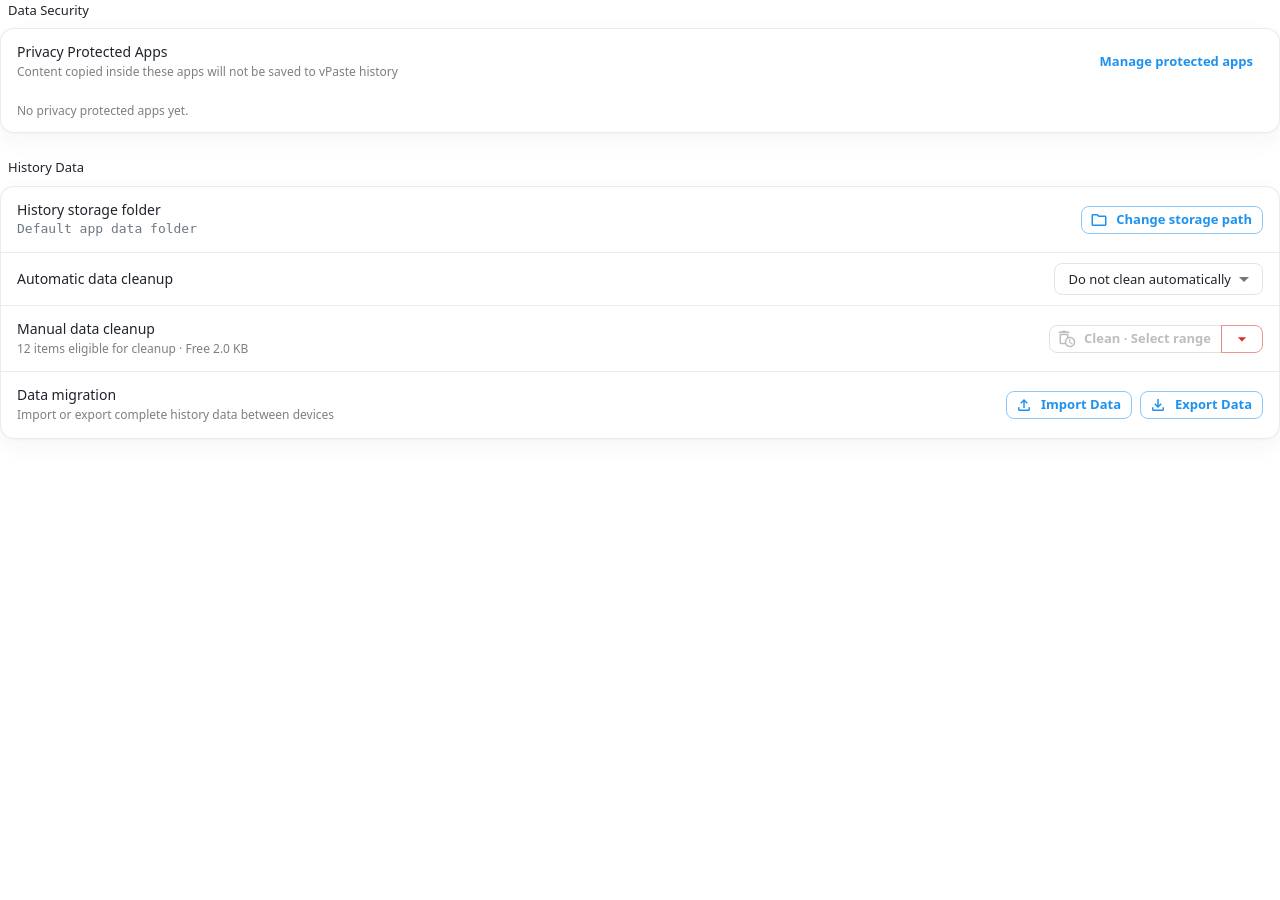
Test case: Data settings actions › shows cleanup scope, count, protection, and warning before deleting (English)
Click the button named "Select range": (1242, 339) 1221,325 -> 1263,353
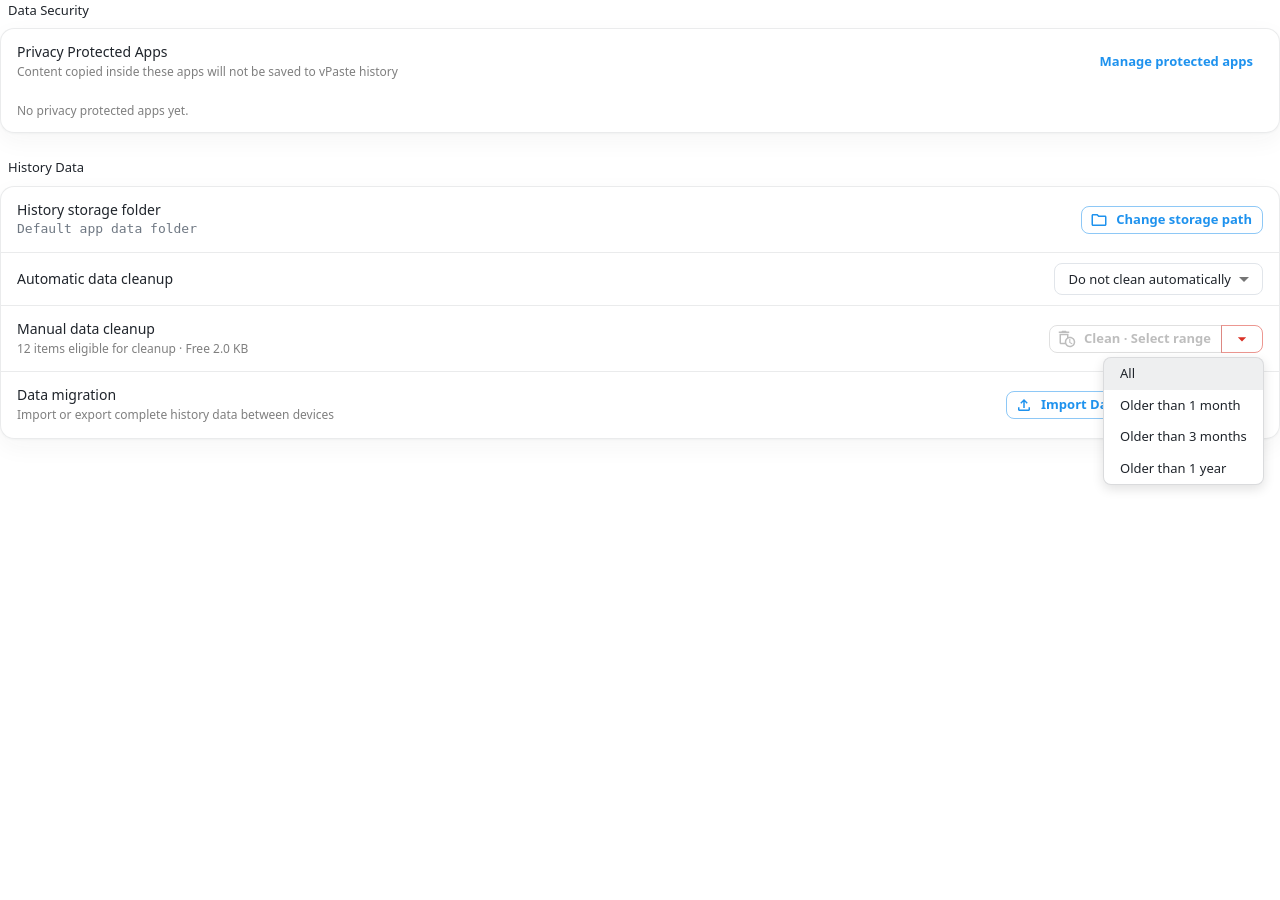
Click the menu item "All": (1183, 374) 1104,358 -> 1263,390
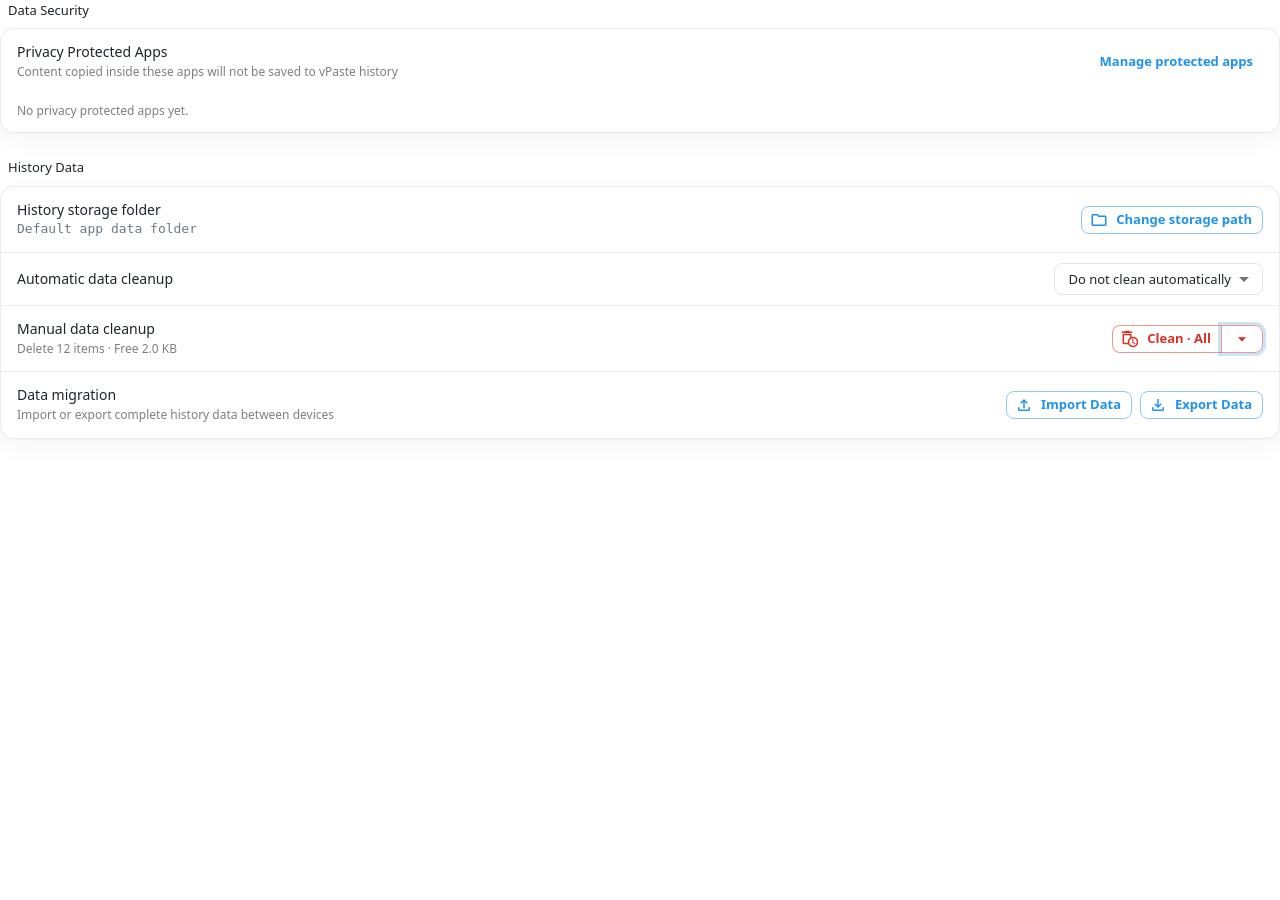
Click the button "Clean · All": (1167, 339) 1112,325 -> 1222,353
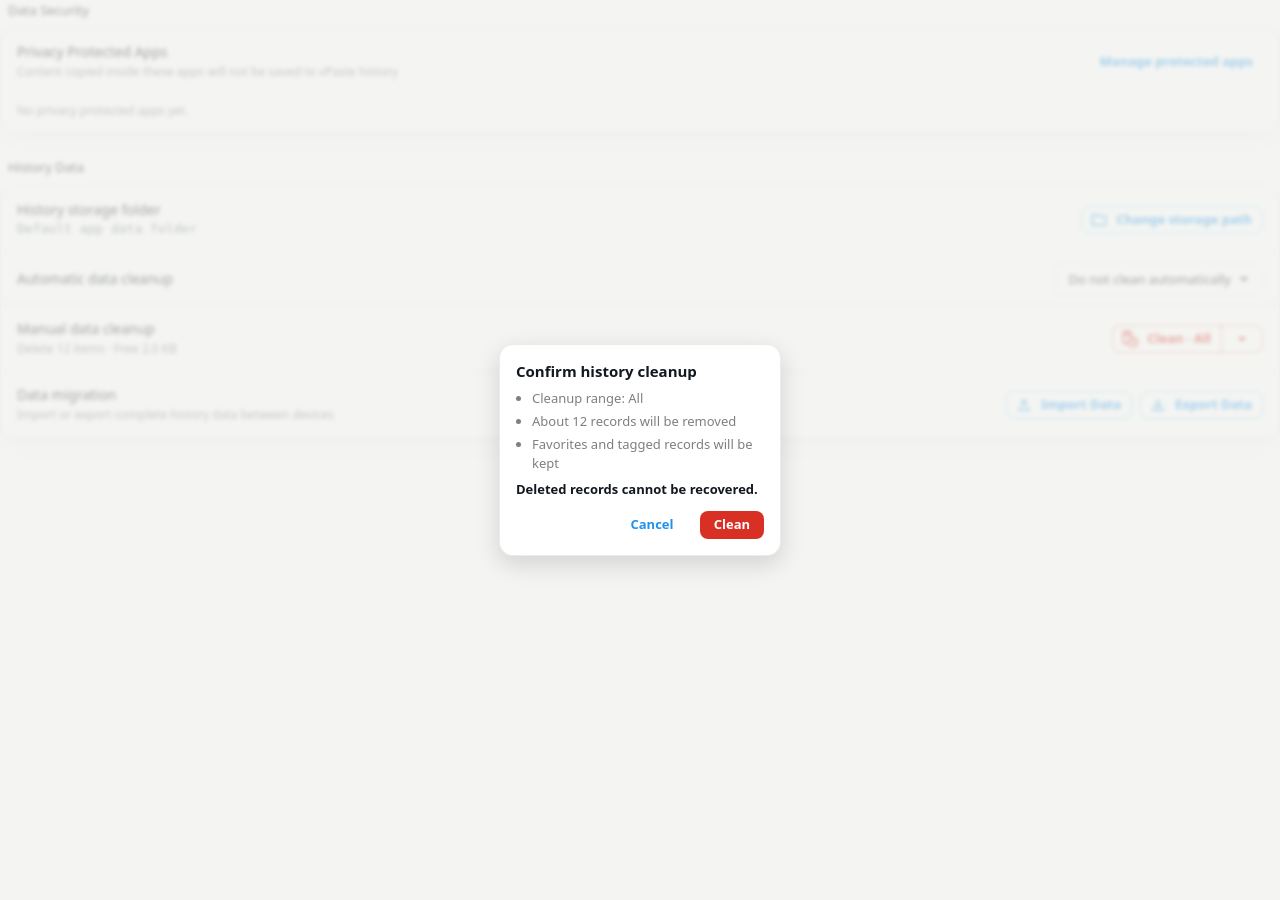
Now the dialog "Confirm history cleanup" shows "Favorites and tagged records will be kept", box 532,435 -> 752,472
